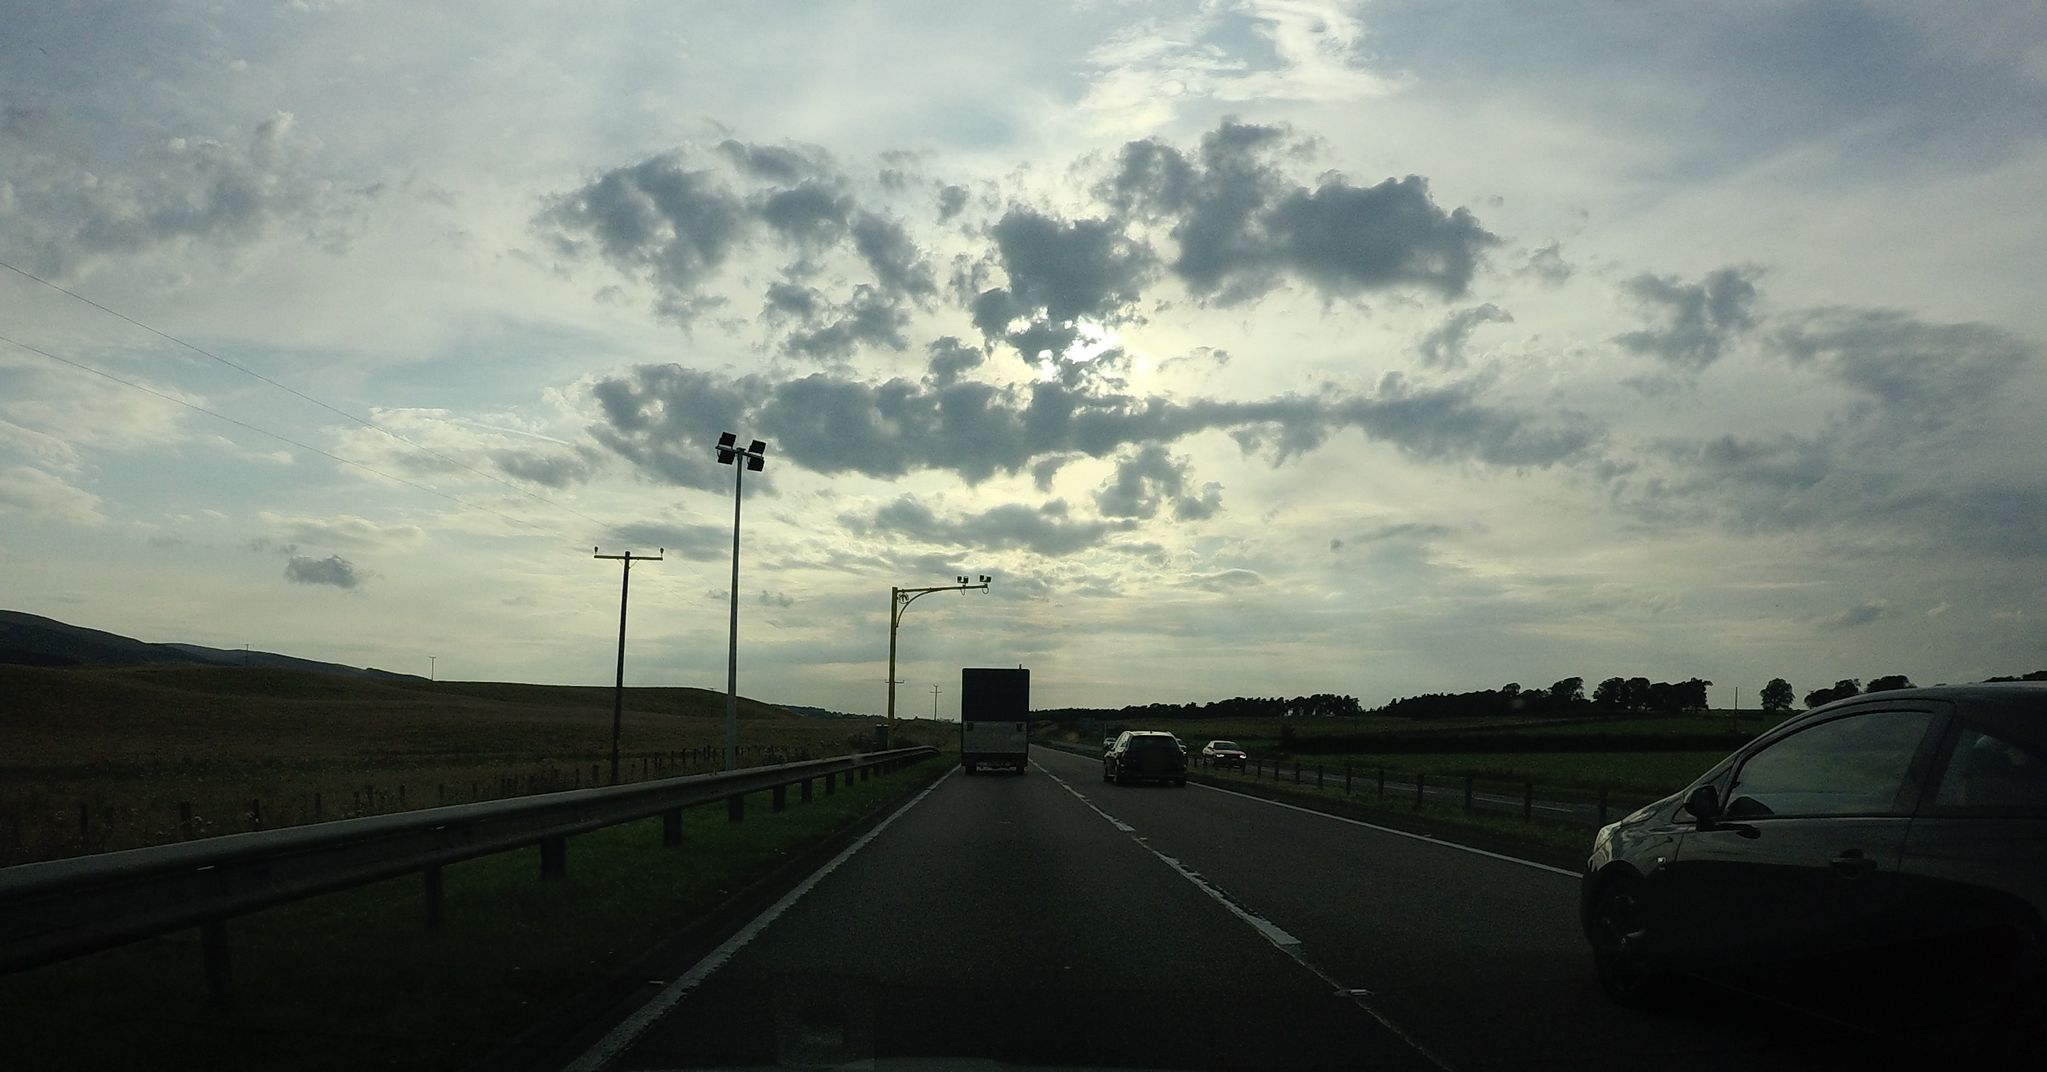car: (1576, 677, 2046, 1058), (1103, 730, 1187, 786), (1201, 740, 1246, 767), (1102, 736, 1116, 749)
truck: (959, 665, 1030, 772)
